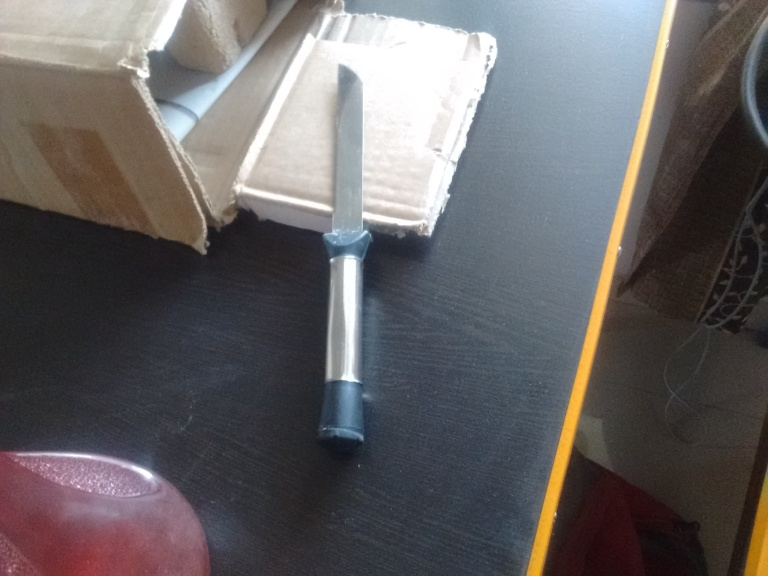knife: (317, 62, 373, 454)
